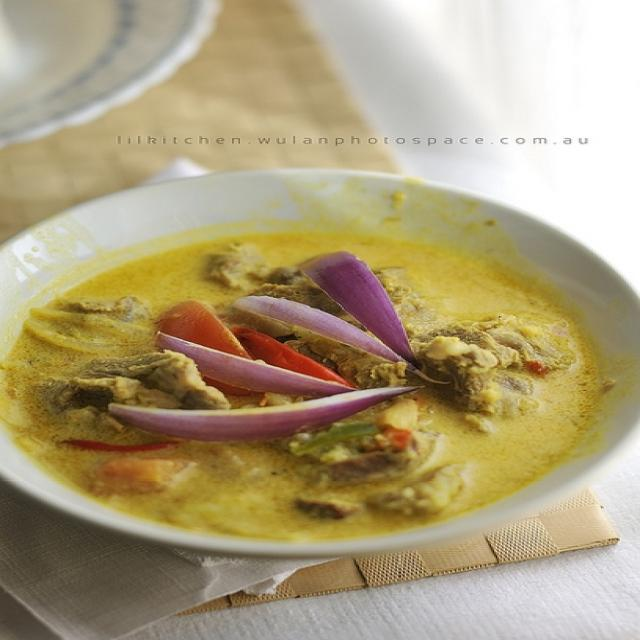熟制海鲜: (24, 98, 616, 592)
